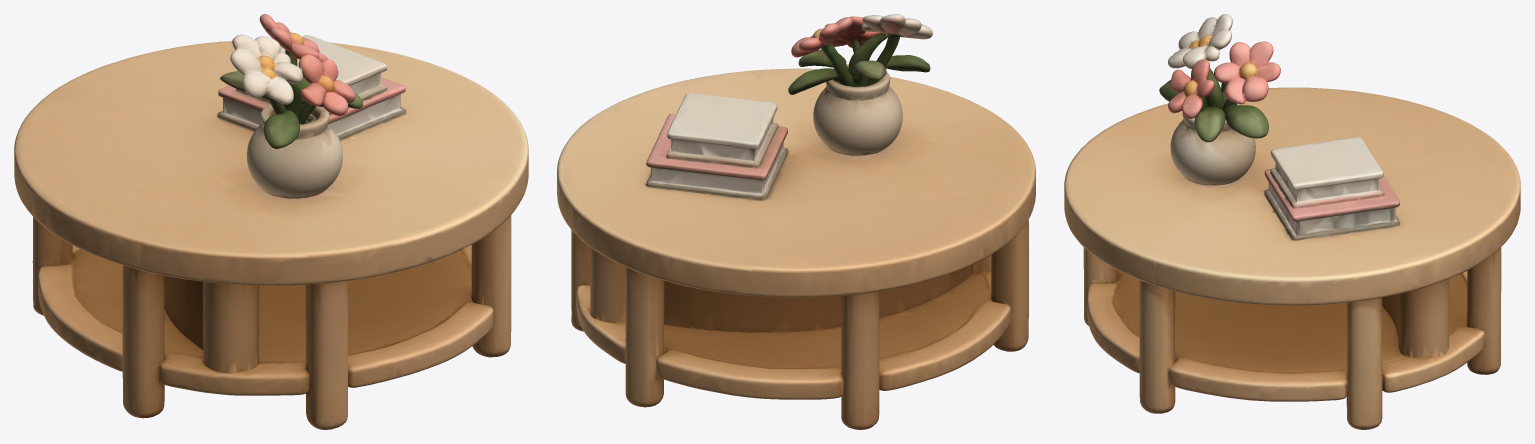
File: table-9ecbd67c4163.glb
3 renders of one model, left to right at view 1: azimuth 30°, elevation 25°; view 2: azimuth 150°, elevation 25°; view 3: azimuth 270°, elevation 25°, orthographic. The views are drawn at different scales.
Parts seen in each view (by area): view 1: tripo_node_c32c8728-184e-4db6-b1e1-93dddbb9dce4; view 2: tripo_node_c32c8728-184e-4db6-b1e1-93dddbb9dce4; view 3: tripo_node_c32c8728-184e-4db6-b1e1-93dddbb9dce4.
Boxes of the visible parts, left/top/right/bottom form: tripo_node_c32c8728-184e-4db6-b1e1-93dddbb9dce4: left=14, top=14, right=528, bottom=429; tripo_node_c32c8728-184e-4db6-b1e1-93dddbb9dce4: left=557, top=14, right=1035, bottom=429; tripo_node_c32c8728-184e-4db6-b1e1-93dddbb9dce4: left=1064, top=14, right=1520, bottom=429.
Size of the model in its own units: 0.9998 by 0.7303 by 0.9994.
Materials: 1 (1 with a texture image).
